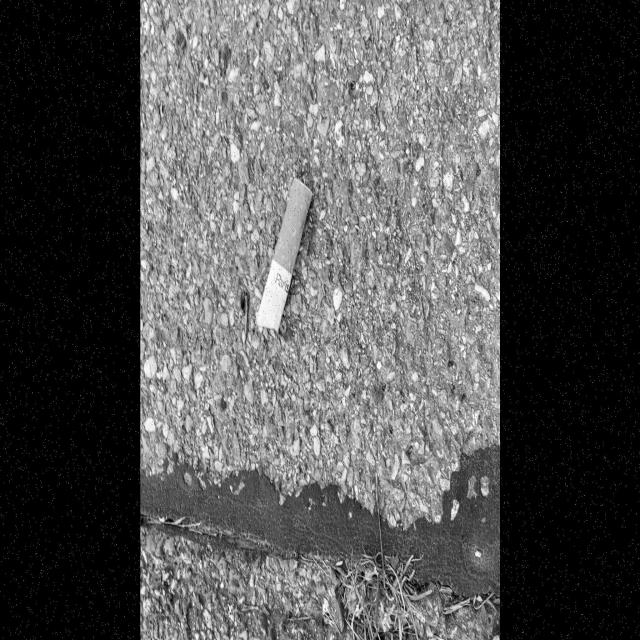other waste: (253, 175, 314, 347)
